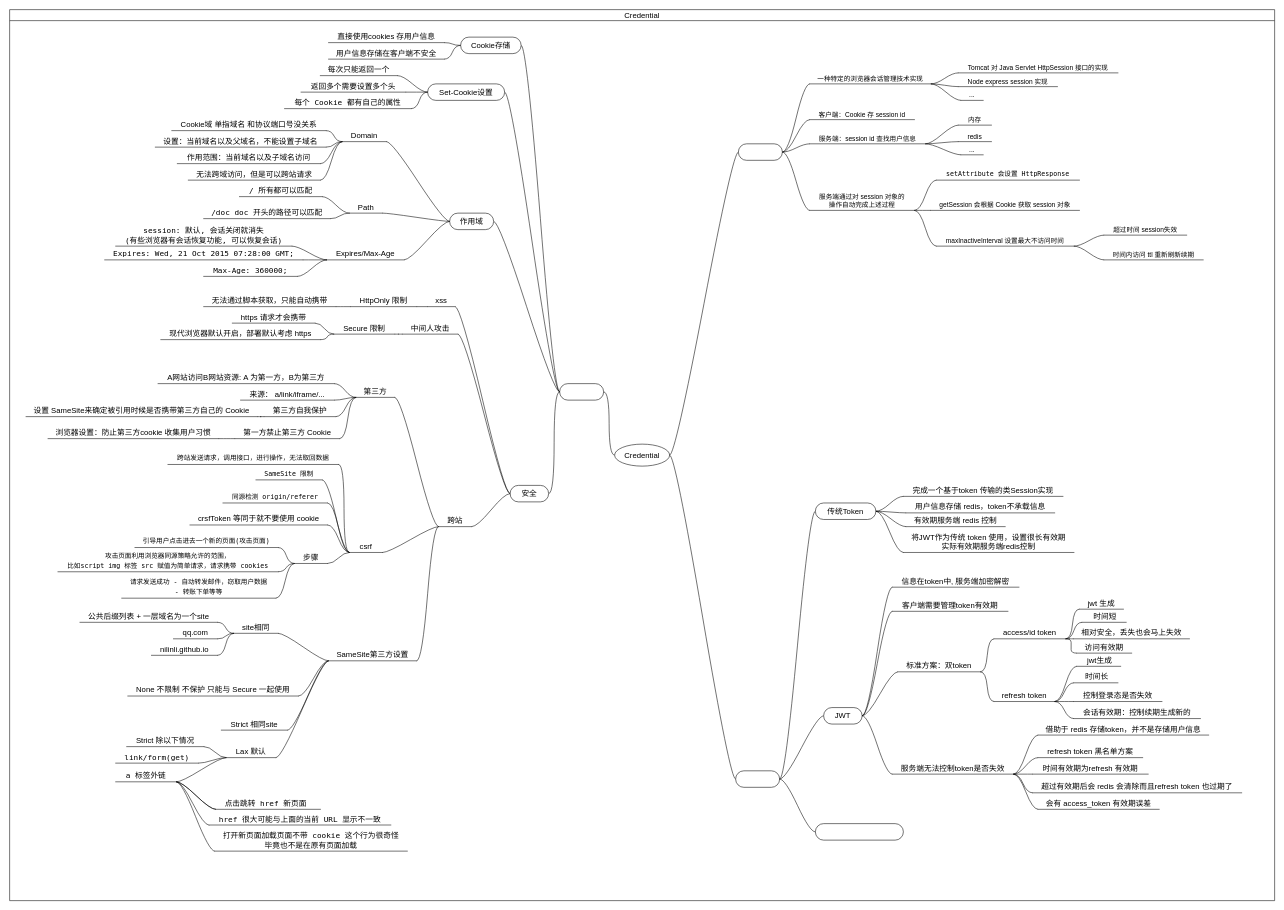
Some shapes in this 1284 by 910 pixel diagram are drawn without their labels. Each missing label, with the centre of its shape:
Cookie: the point at 581,391
Session: the point at 760,151
Token: the point at 757,778
其他token 加密方案: the point at 859,831
